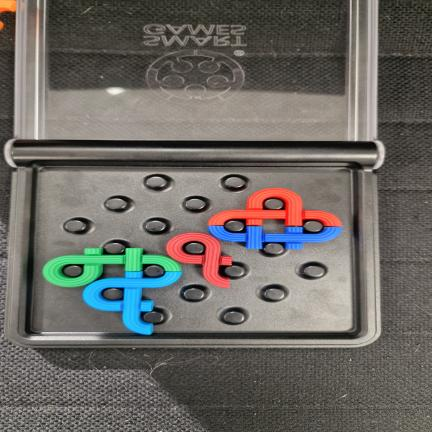B_SkyBlue: (83, 271, 181, 335)
C_DarkBlue: (209, 226, 342, 249)
D_Green: (43, 249, 181, 287)
E_Red: (208, 188, 342, 226)
J_DarkRed: (166, 233, 231, 288)
board: (5, 140, 380, 347)
hinge: (0, 142, 384, 167)
pin: (263, 288, 285, 301), (224, 176, 245, 189), (183, 288, 204, 301), (224, 311, 244, 324), (146, 176, 167, 188), (106, 198, 127, 210), (65, 220, 86, 232), (304, 266, 325, 278), (102, 288, 123, 300), (146, 220, 166, 232), (303, 221, 323, 233), (105, 242, 125, 254), (62, 265, 82, 277), (144, 265, 164, 277), (225, 265, 245, 277), (144, 311, 164, 323), (185, 199, 206, 210), (263, 199, 284, 210), (185, 242, 204, 254), (264, 243, 284, 254), (225, 221, 244, 232)
